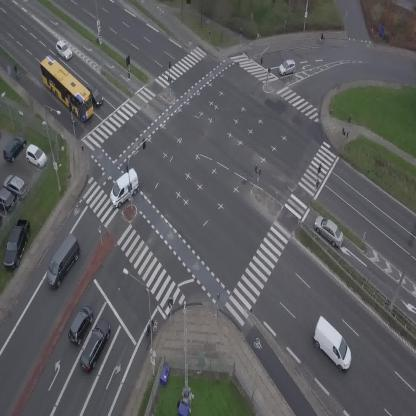bicycle: (143, 319, 155, 338), (11, 64, 21, 79), (317, 32, 326, 43)
bus: (32, 52, 102, 123)
car: (75, 316, 116, 375), (308, 211, 349, 250), (63, 302, 98, 347), (84, 82, 105, 108), (52, 39, 75, 62), (277, 58, 298, 77)
lorry: (302, 315, 361, 374), (38, 232, 89, 292), (102, 168, 147, 210)
